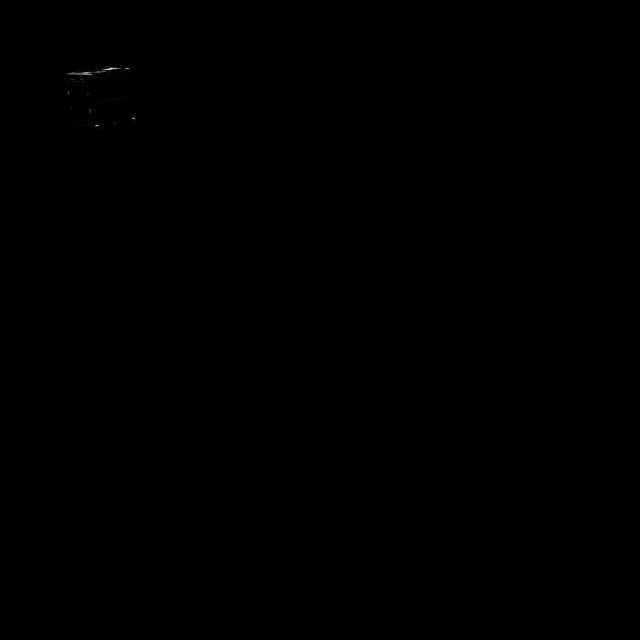medium_debris: (70, 54, 146, 148)
